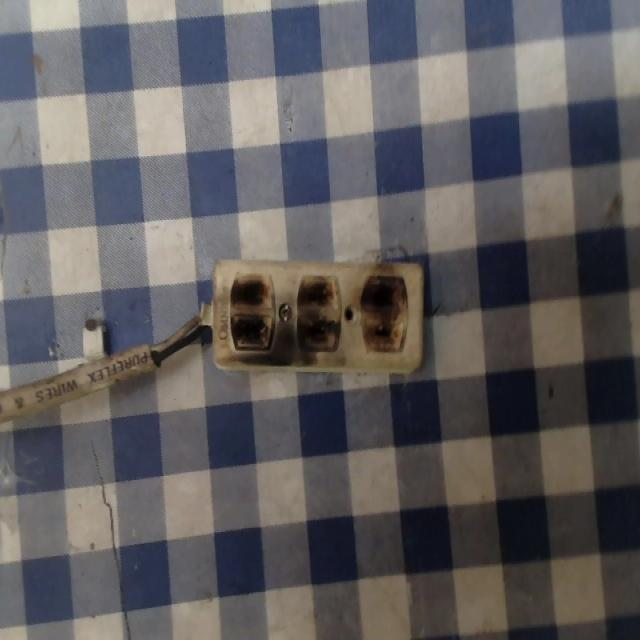-: (357, 268, 410, 355), (227, 270, 279, 354), (294, 273, 343, 356)
